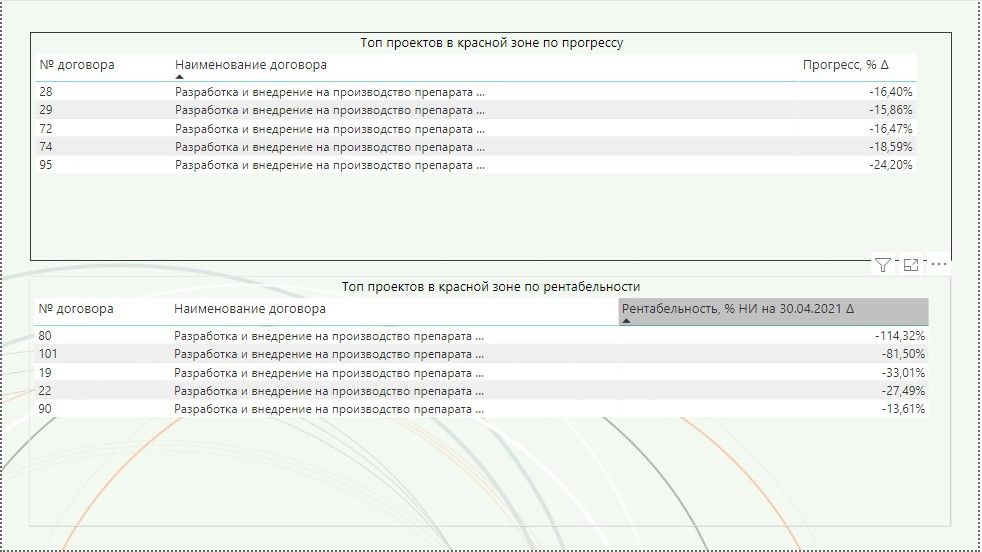

Layout of this report page (visuals, bound fields, positions):
{"tool":"powerbi","page":{"name":"Топ: прогресс и рентаб.","canvas":[1280,720],"ordinal":2},"visuals":[{"type":"tableEx","title":"Топ проектов в красной зоне по прогрессу","fields":{"Values":["Портфель (ИТОГ).№ договора","Портфель (ИТОГ).Наименование договора","Портфель (ИТОГ).Прогресс, % ∆"]},"box":[36.1,40.4,1209.1,300.1],"z":0},{"type":"tableEx","title":"Топ проектов в красной зоне по рентабельности","fields":{"Values":["Портфель (ИТОГ).№ договора","Портфель (ИТОГ).Наименование договора","Sum(Портфель (ИТОГ).Рентабельность, % НИ на 30.04.2021 ∆)"]},"box":[35.9,360.6,1209.9,328.1],"z":1000}]}

Visuals, with their boxes in screenshot pixels (x1, y1, x2, y2), scaled from the page's 1280x720 canvas onto the 982x552 screenshot:
"Топ проектов в красной зоне по прогрессу" tableEx: (28, 31, 955, 261)
"Топ проектов в красной зоне по рентабельности" tableEx: (28, 276, 956, 528)
